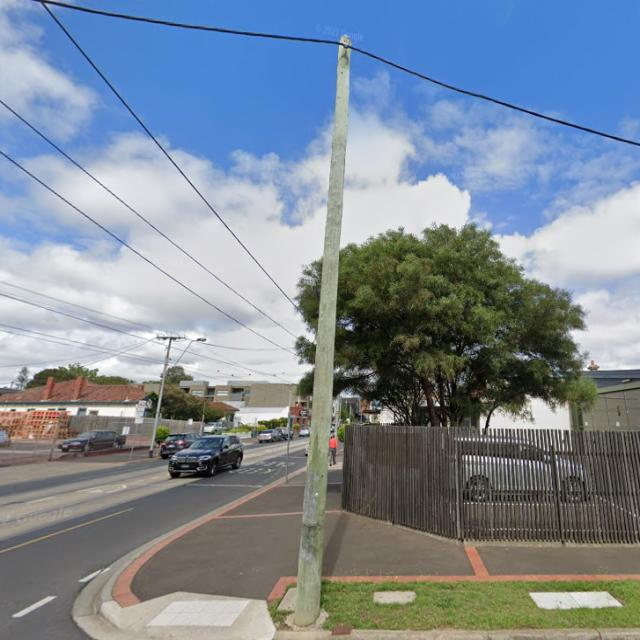crossarm: (157, 334, 186, 341)
streetlight: (164, 337, 207, 379)
timber-pole: (291, 35, 353, 628), (147, 336, 173, 458)
